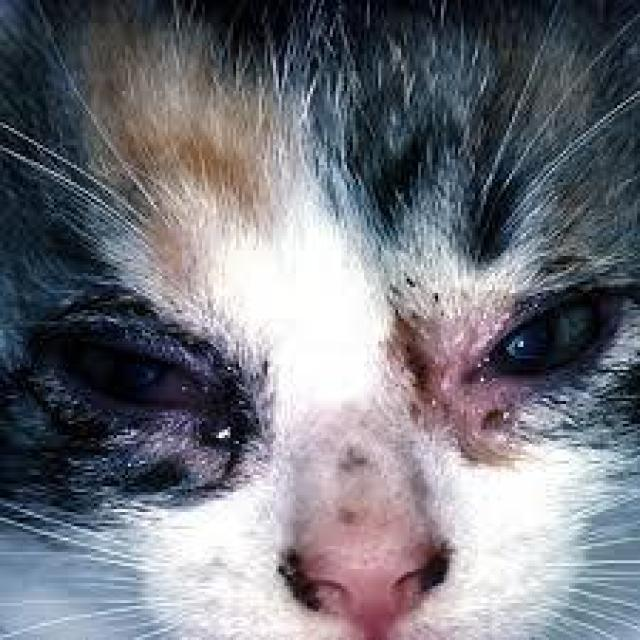cat-eye: (18, 308, 250, 449), (426, 281, 626, 425)
